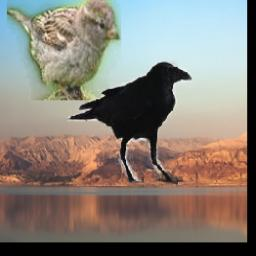Crow: (66, 62, 192, 186)
Sparrow: (6, 0, 120, 100)
